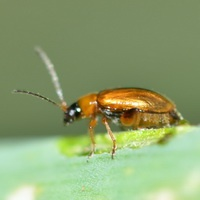insect: (14, 47, 186, 158)
